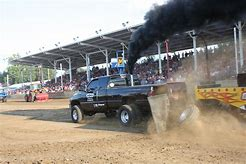smoke: (126, 1, 246, 73)
